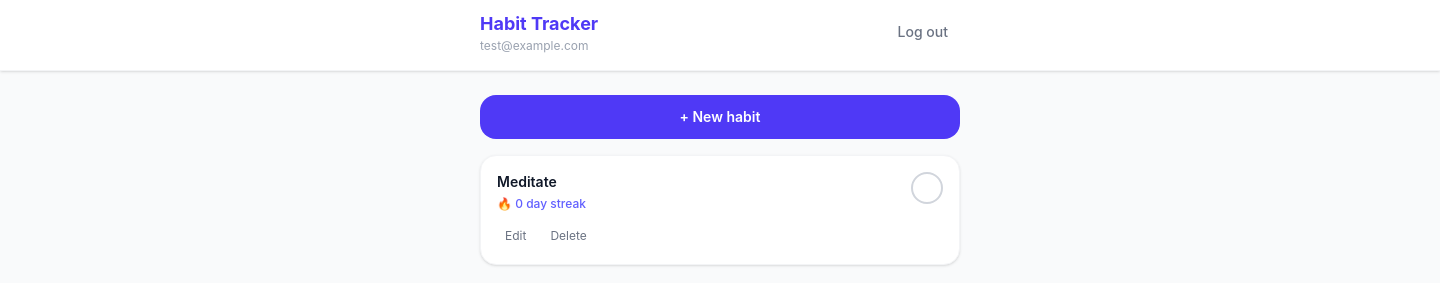
Test: habit form › toggles completion and updates the streak display
Expected: the element with test id "habit-card-meditate" is shown, [480, 155, 960, 265]
Expected: the text with test id "habit-streak-meditate" shows "0", [515, 196, 523, 211]
# Toggle complete
Step 1. Click the button with test id "habit-complete-meditate" → (927, 188), box [911, 172, 943, 204]
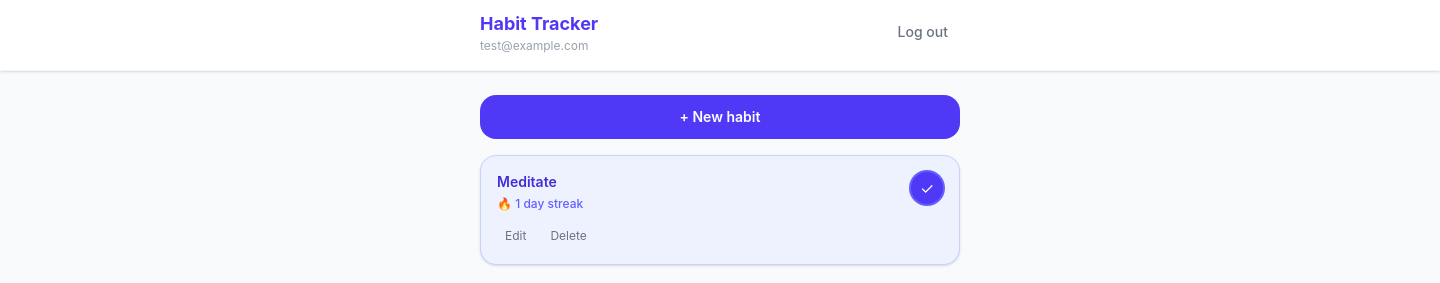
Now the text with test id "habit-streak-meditate" shows "1", box [515, 196, 520, 211]
# Toggle off
Step 2. Click the button with test id "habit-complete-meditate" → (927, 188), box [911, 172, 943, 204]
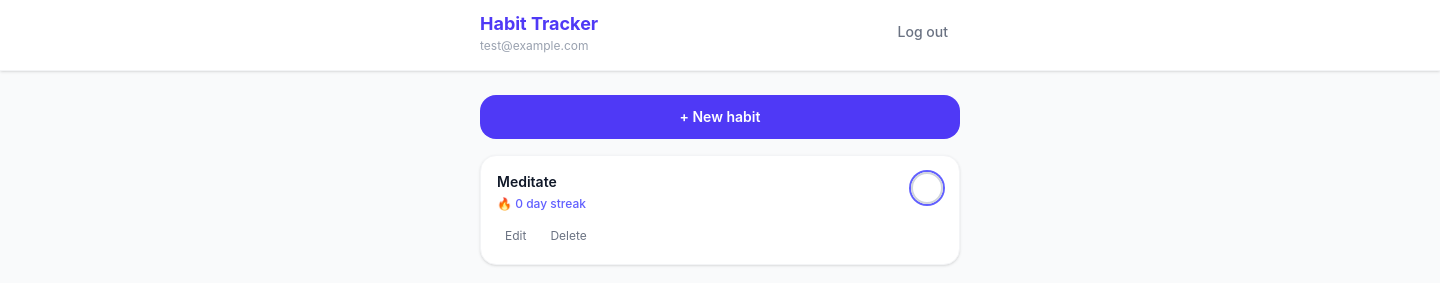
Now the text with test id "habit-streak-meditate" shows "0", box [515, 196, 523, 211]
